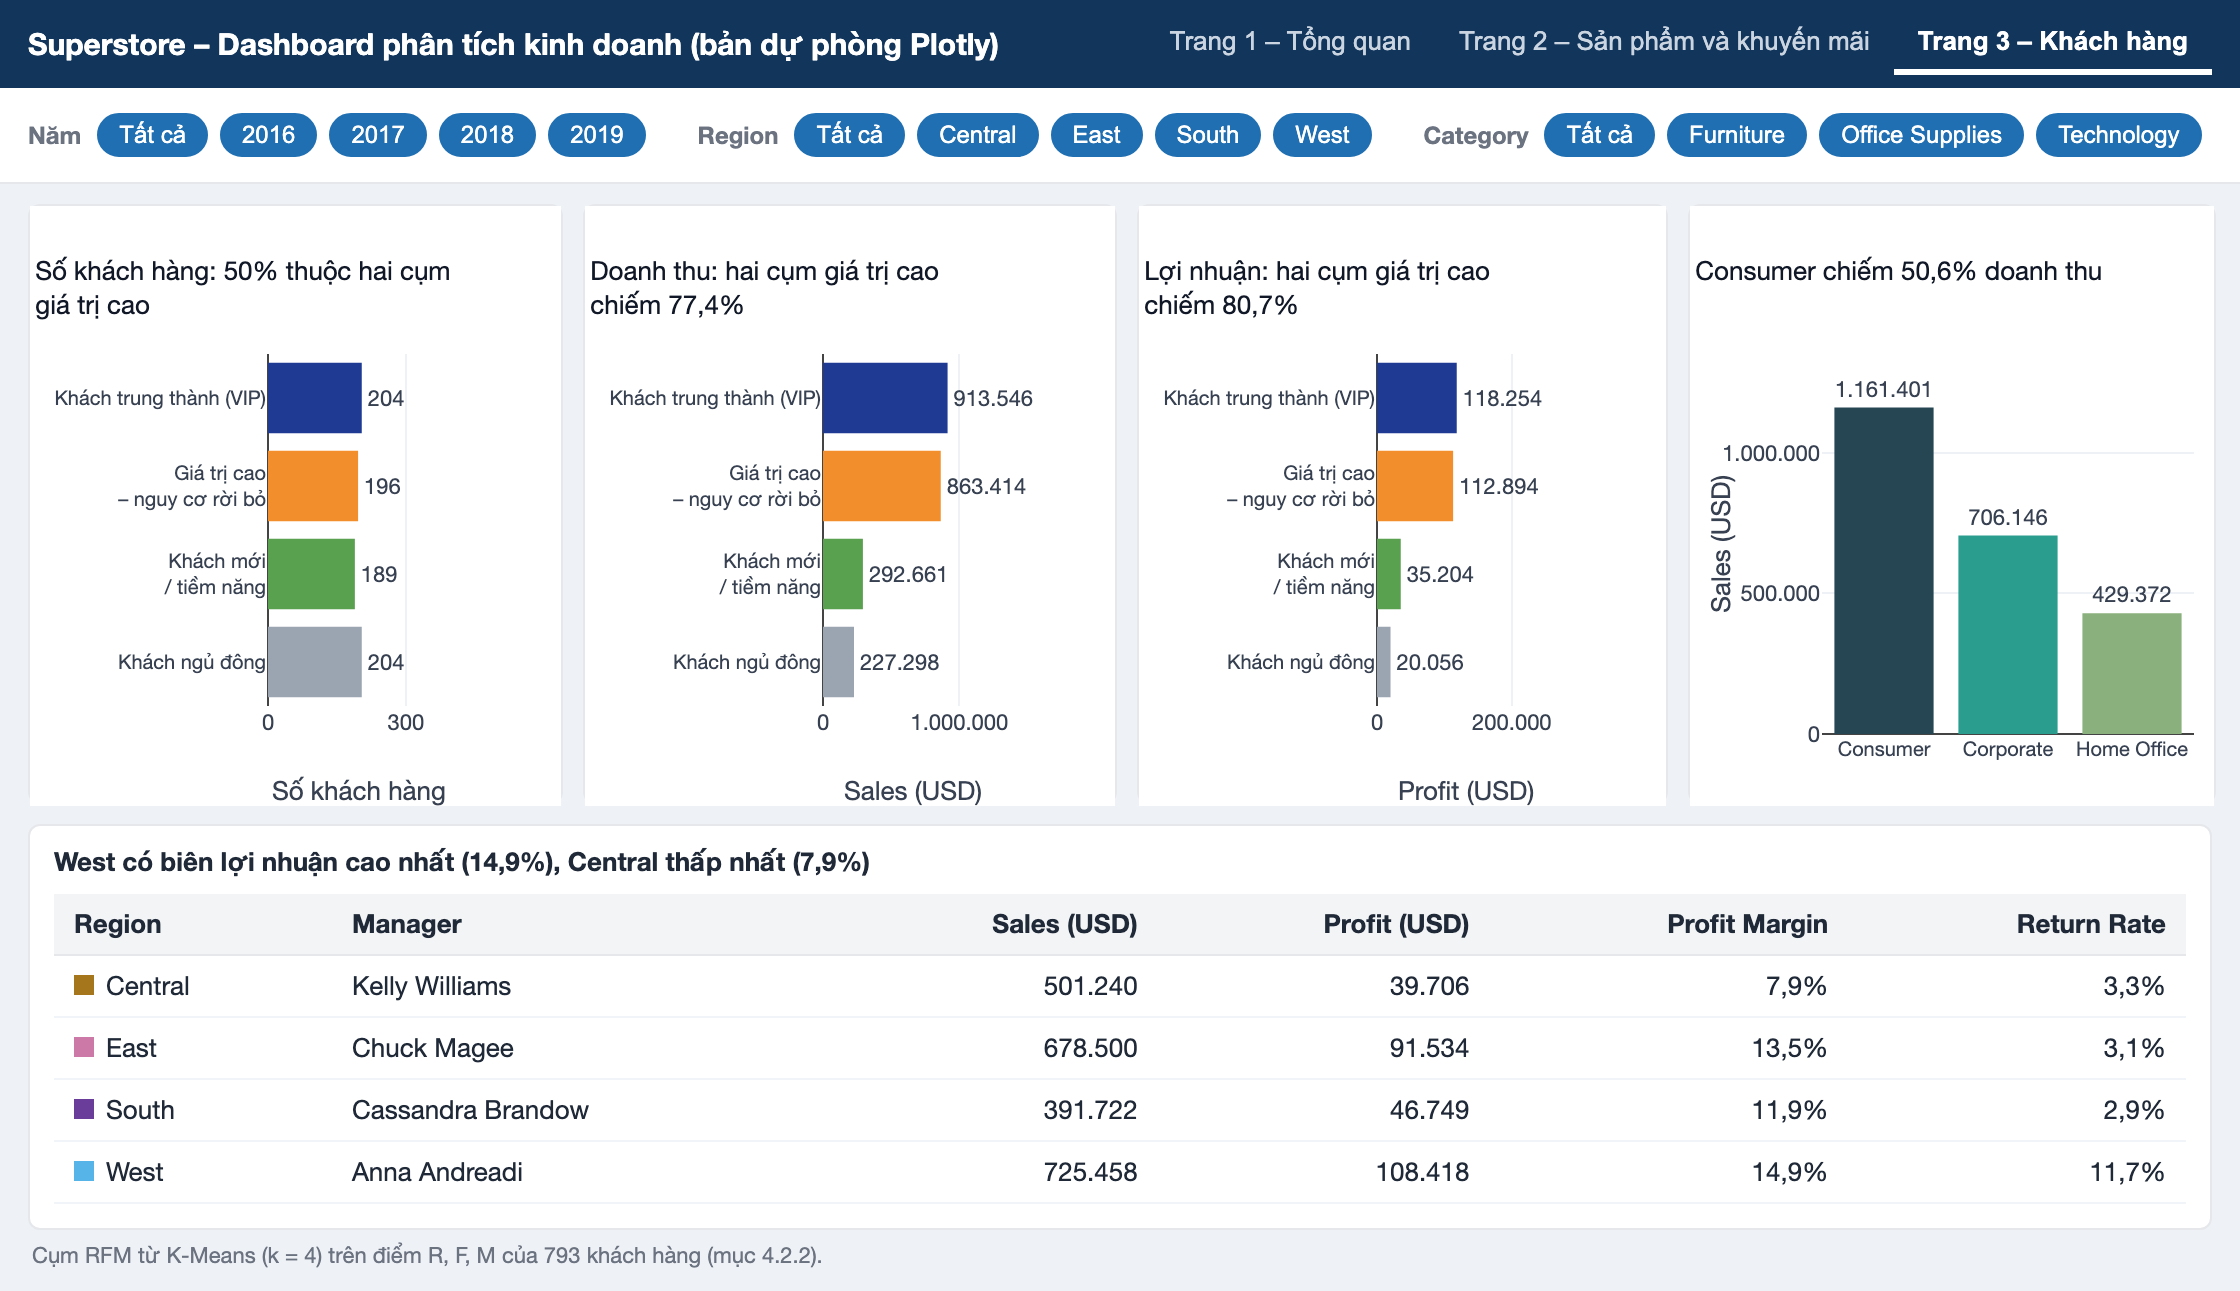

What the dashboard file says about the page in this screenshot:
{"tool":"tableau","page":{"name":"Trang 3 - Khach hang","canvas":[1280,7200],"ordinal":2},"visuals":[{"type":"parameter","param":"[Parameters].[Parameter 3607415047954432]","box":[16,8,200,44]},{"type":"filter","title":"Bảng Region-Manager","param":"[federated.1uwefz30ha1kz11gx3cue1jap6an].[none:Region:nk]","box":[232,8,300,44]},{"type":"filter","title":"Bảng Region-Manager","param":"[federated.1uwefz30ha1kz11gx3cue1jap6an].[none:Category:nk]","box":[548,8,300,44]},{"type":"worksheet","title":"Số khách theo cụm","mark":"Bar","rows":["RFM_Cluster"],"cols":["Customer ID"],"box":[16,60,408,320]},{"type":"worksheet","title":"Doanh thu theo cụm","mark":"Bar","rows":["RFM_Cluster"],"cols":["Sales"],"box":[436,60,408,320]},{"type":"worksheet","title":"Lợi nhuận theo cụm","mark":"Bar","rows":["RFM_Cluster"],"cols":["Profit"],"box":[856,60,408,320]},{"type":"worksheet","title":"Doanh thu theo Segment","mark":"Bar","rows":["Sales"],"cols":["Segment"],"box":[16,392,500,320]},{"type":"worksheet","title":"Bảng Region-Manager","mark":"Text","rows":["Region","Manager"],"box":[528,392,736,320]}]}

Visuals, with their boxes on the page's 1280x7200 design canvas (x1, y1, x2, y2). These are canvas units, not pixel positions in the 2240x1291 screenshot, which may show the page scaled, cropped or inside an application window:
parameter: locate(16, 8, 216, 52)
"Bảng Region-Manager" filter: locate(232, 8, 532, 52)
"Bảng Region-Manager" filter: locate(548, 8, 848, 52)
"Số khách theo cụm" worksheet (Bar marks): locate(16, 60, 424, 380)
"Doanh thu theo cụm" worksheet (Bar marks): locate(436, 60, 844, 380)
"Lợi nhuận theo cụm" worksheet (Bar marks): locate(856, 60, 1264, 380)
"Doanh thu theo Segment" worksheet (Bar marks): locate(16, 392, 516, 712)
"Bảng Region-Manager" worksheet (Text marks): locate(528, 392, 1264, 712)
